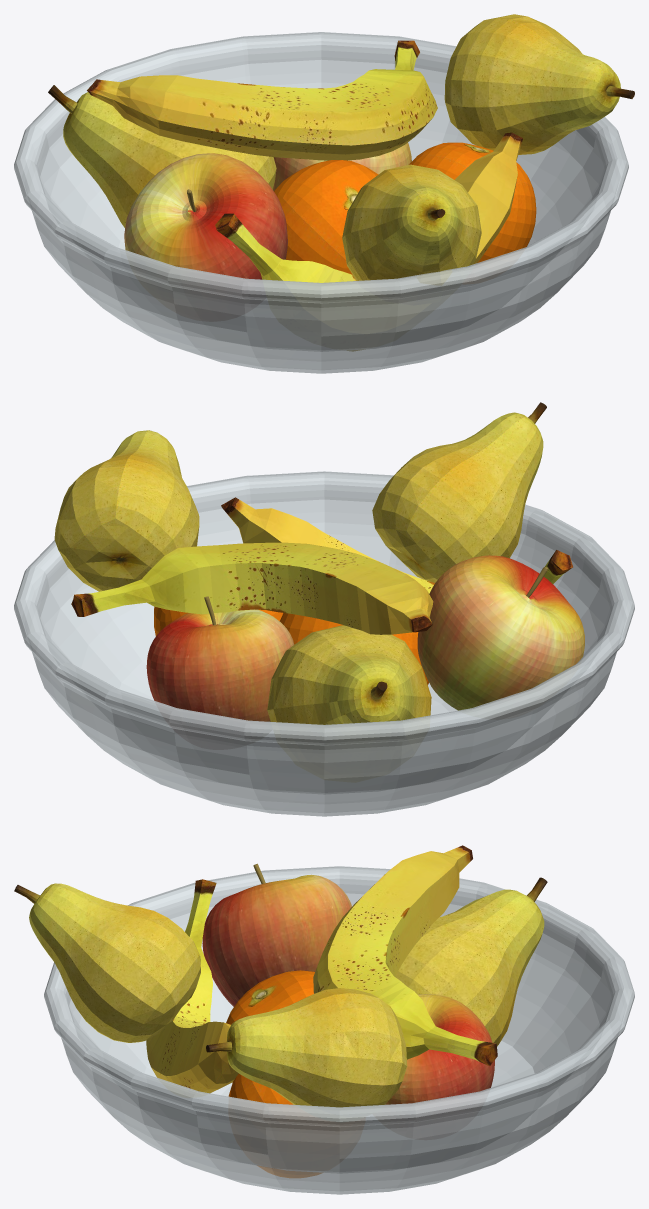
Rendered from sweethome3d-scopia-bowl-with-fruits.glb.
3 views of the same model, one above another, from view 1: azimuth 30°, elevation 25°; view 2: azimuth 150°, elevation 25°; view 3: azimuth 270°, elevation 25° (orthographic). The views are drawn at different scales.
Parts seen in each view (by area): view 1: bowl_jar_Plane, banana.001, pear.002, apple_apple2_Tube.002, pear.001, pear, banana.002, orange.001_Cube.003, orange_Cube, apple.001_apple2_Tube.001; view 2: bowl_jar_Plane, banana.001, apple_apple2_Tube.002, pear.001, pear.002, pear, apple.001_apple2_Tube.001, banana.002, orange.001_Cube.003, orange_Cube; view 3: bowl_jar_Plane, pear.001, pear.002, banana.001, pear, apple_apple2_Tube.002, banana.002, apple.001_apple2_Tube.001, orange.001_Cube.003, orange_Cube.
Part boxes in pixels (box(x1,y1,x2,y2)): bowl_jar_Plane: box(14, 32, 628, 373); banana.001: box(87, 40, 437, 160); pear.002: box(444, 14, 634, 154); apple_apple2_Tube.002: box(124, 153, 287, 279); pear.001: box(342, 164, 481, 285); pear: box(48, 85, 276, 228); banana.002: box(215, 132, 522, 351); orange.001_Cube.003: box(274, 160, 378, 274); orange_Cube: box(409, 142, 536, 262); apple.001_apple2_Tube.001: box(273, 142, 411, 190); bowl_jar_Plane: box(14, 471, 634, 816); banana.001: box(71, 542, 433, 634); apple_apple2_Tube.002: box(417, 555, 584, 710); pear.001: box(372, 402, 546, 582); pear.002: box(54, 430, 199, 591); pear: box(267, 625, 431, 724); apple.001_apple2_Tube.001: box(146, 596, 294, 721); banana.002: box(221, 497, 572, 593); orange.001_Cube.003: box(279, 613, 428, 684); orange_Cube: box(154, 606, 283, 635); bowl_jar_Plane: box(44, 866, 634, 1194); pear.001: box(14, 883, 200, 1042); pear.002: box(206, 988, 407, 1107); banana.001: box(313, 845, 497, 1066); pear: box(395, 877, 547, 1046); apple_apple2_Tube.002: box(202, 863, 351, 1006); banana.002: box(146, 879, 238, 1093); apple.001_apple2_Tube.001: box(385, 994, 494, 1104); orange.001_Cube.003: box(226, 970, 314, 1024); orange_Cube: box(228, 1074, 321, 1177).
Bounding box in the file's own units: 31.99 × 14.06 × 33.62.
Materials: 12 (9 with a texture image).
